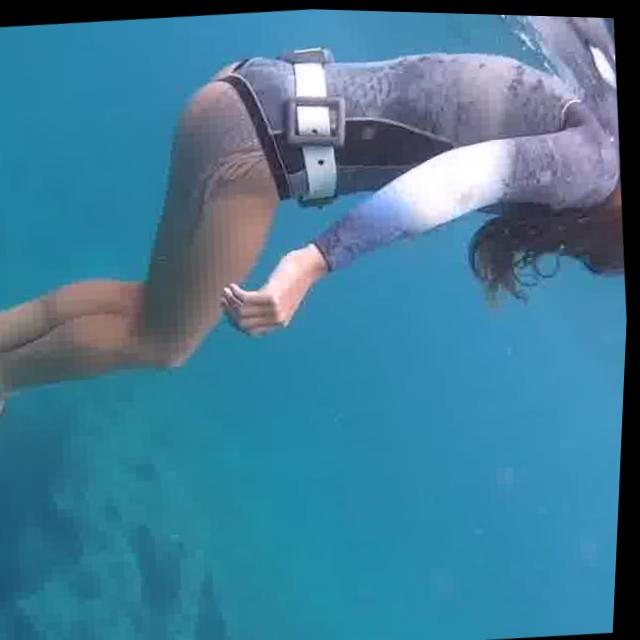human: (0, 2, 640, 474)
